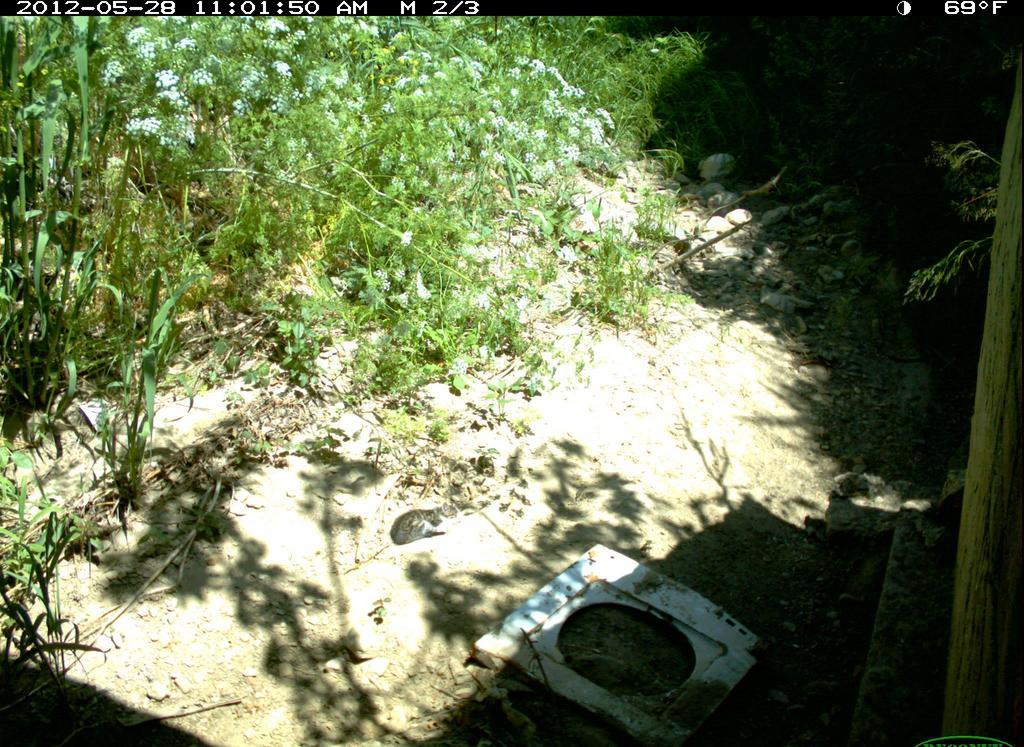cat: (390, 504, 460, 542)
